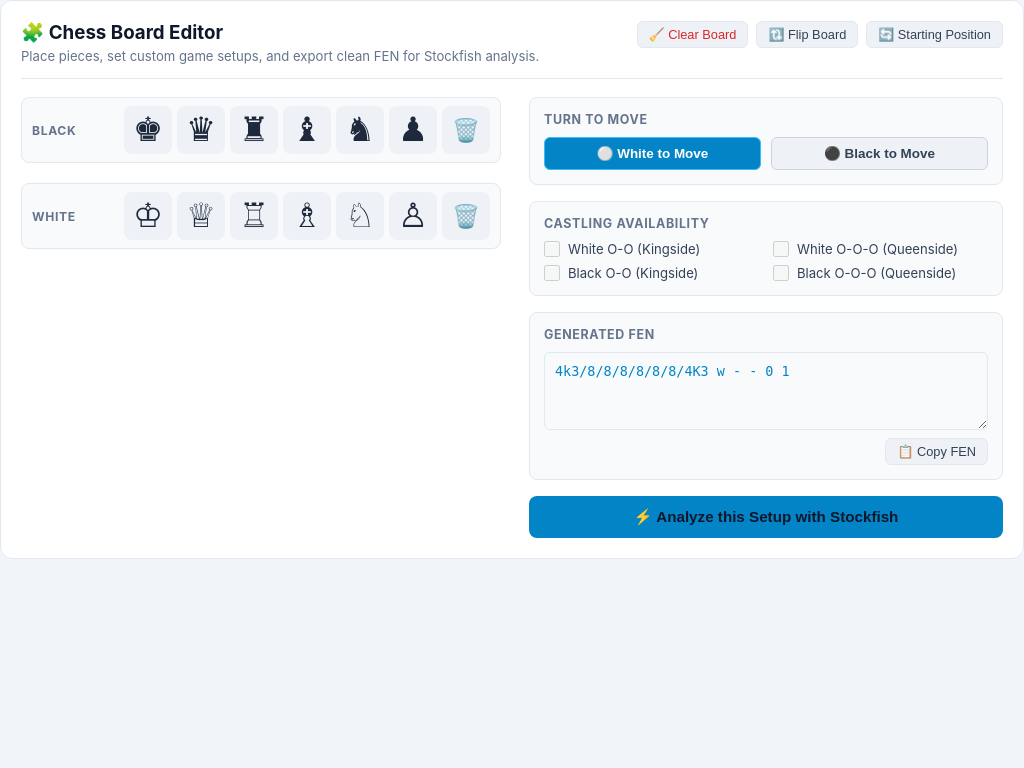
Test: BoardEditor FEN box › shows the generated FEN again when the box loses focus
Replace the text in the text box with "4k3/8/8": (766, 391) 544,352 -> 988,430
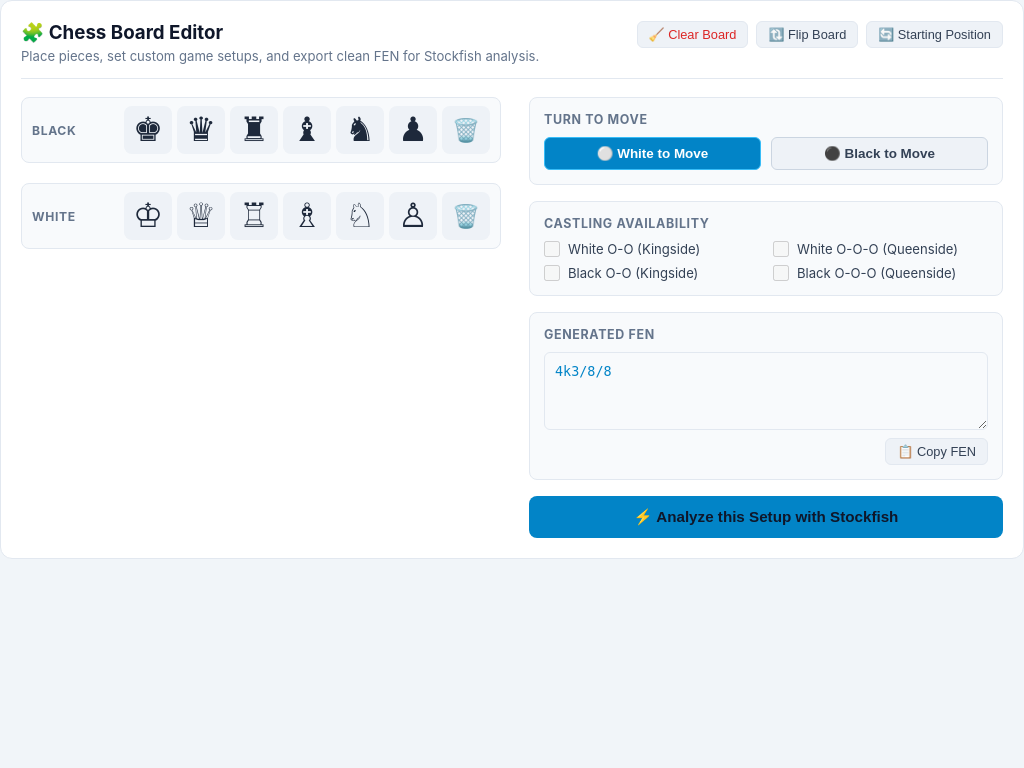
Leave the text box, box 544,352 -> 988,430
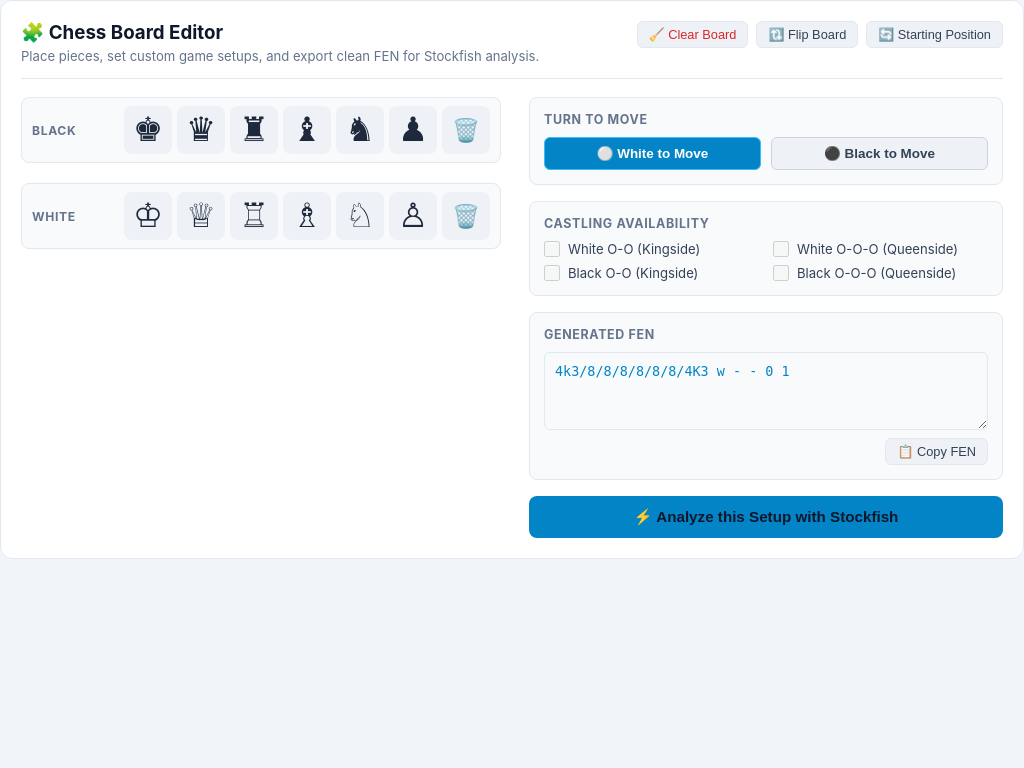
Expected: the text box holds "4k3/8/8/8/8/8/8/4K3 w - - 0 1", 544,352 -> 988,430
